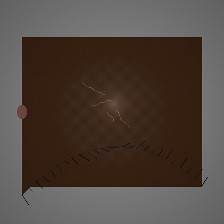corneal_ulcer: (85, 81, 141, 126)
